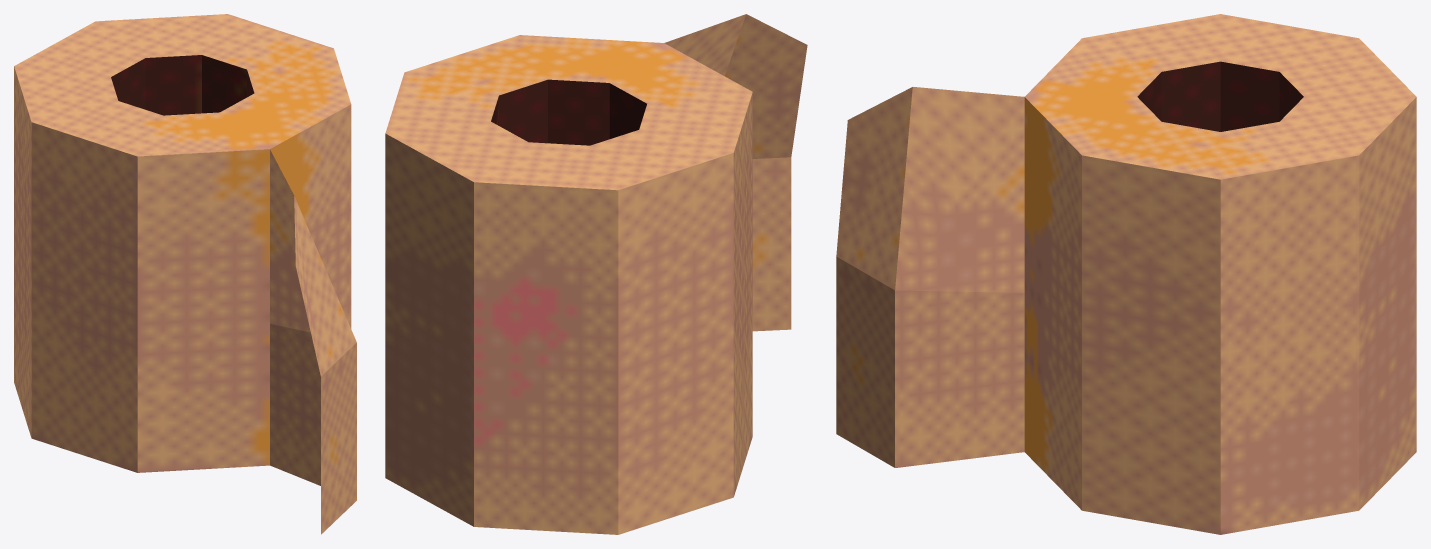
The model's file is toilet paper.fbx.
3 renders of one model, left to right at view 1: azimuth 30°, elevation 25°; view 2: azimuth 150°, elevation 25°; view 3: azimuth 270°, elevation 25°, orthographic. The views are drawn at different scales.
Visible parts, largest first — view 1: Cylinder.001; view 2: Cylinder.001; view 3: Cylinder.001.
Part boxes in pixels (x1,y1,x2,y2): Cylinder.001: [14, 14, 356, 534]; Cylinder.001: [385, 14, 807, 534]; Cylinder.001: [836, 14, 1416, 534].
Size of the model in its own units: 200 by 200 by 296.
